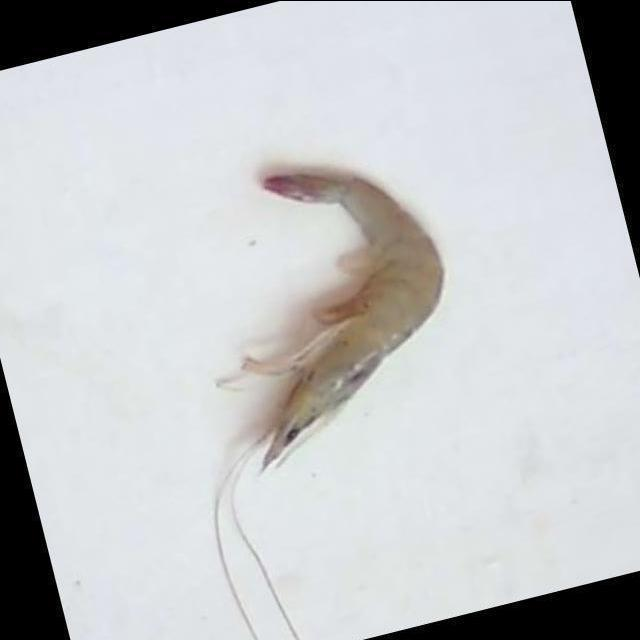shrimp: (243, 171, 443, 469)
